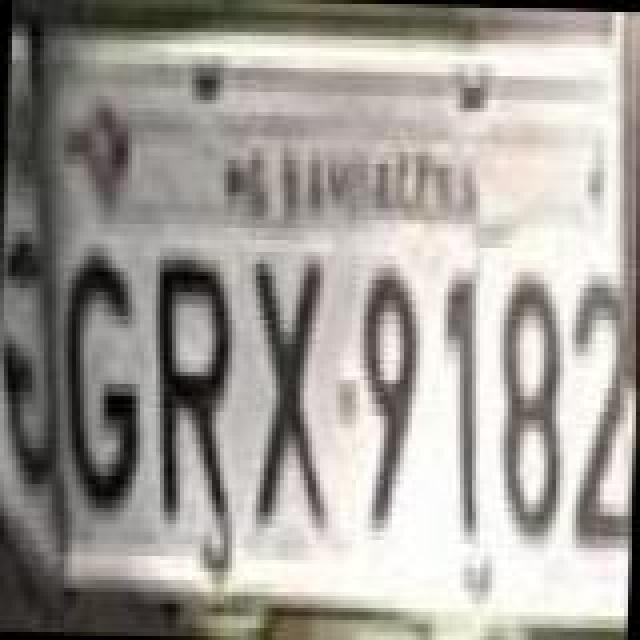1: (438, 268, 490, 544)
2: (562, 256, 638, 536)
8: (494, 268, 570, 548)
9: (356, 262, 420, 526)
G: (58, 250, 142, 518)
R: (152, 250, 240, 518)
X: (246, 248, 338, 528)
